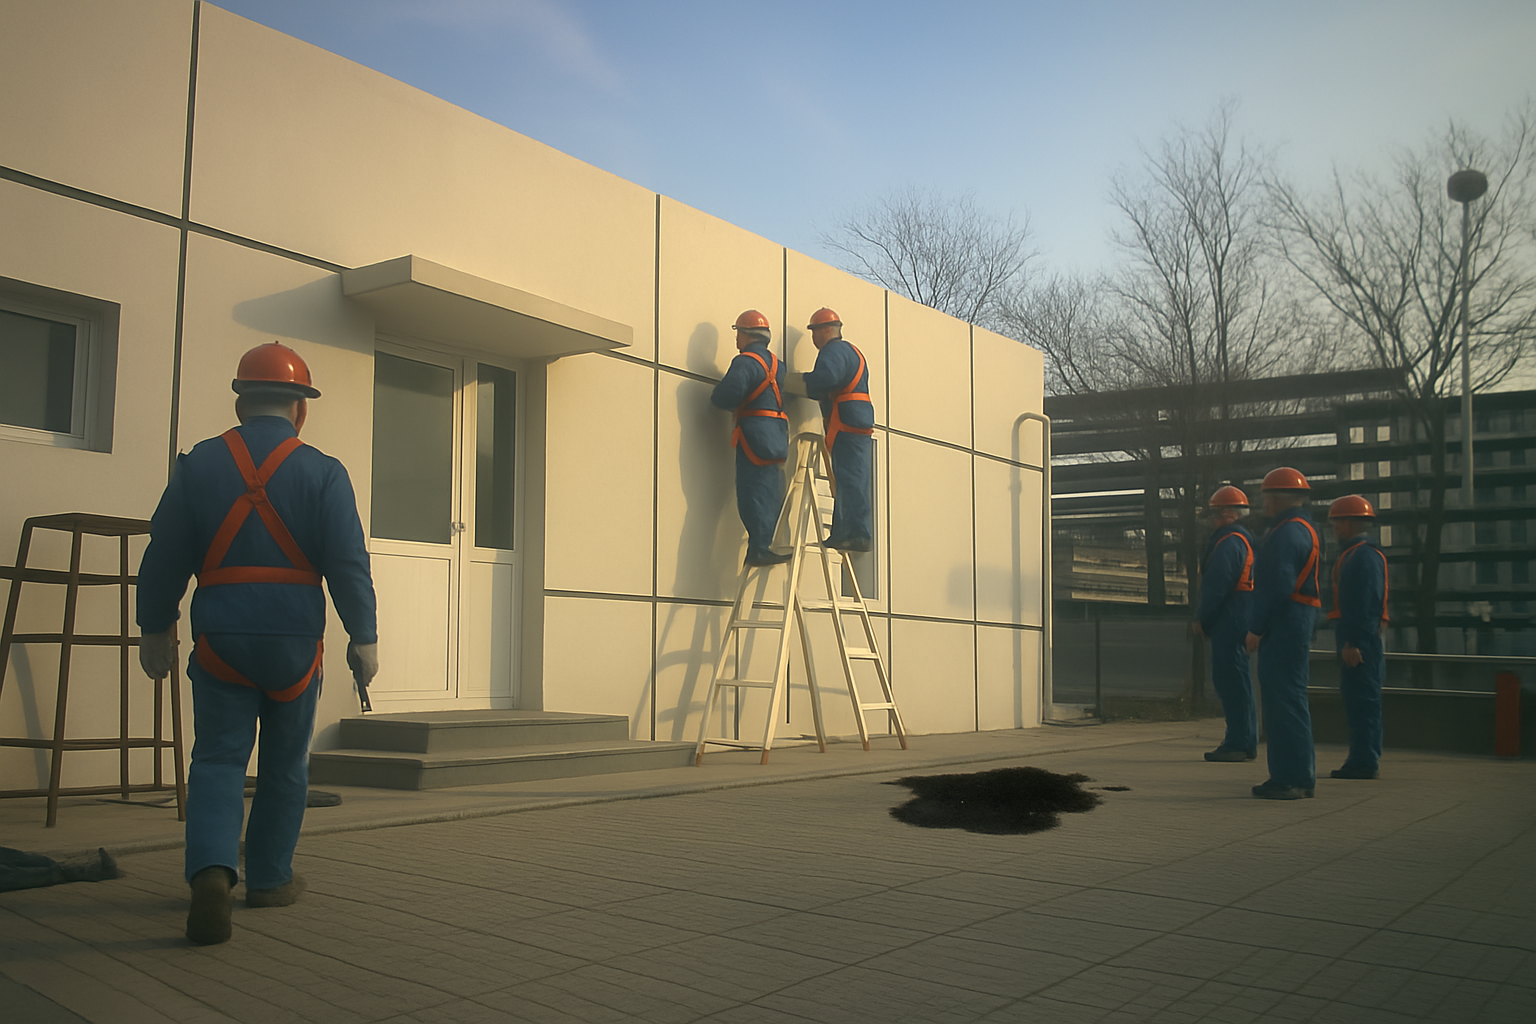safety_belt: (185, 419, 334, 710), (725, 339, 798, 473), (816, 335, 882, 456), (1326, 535, 1397, 642), (1266, 510, 1329, 618), (1200, 526, 1261, 601)
